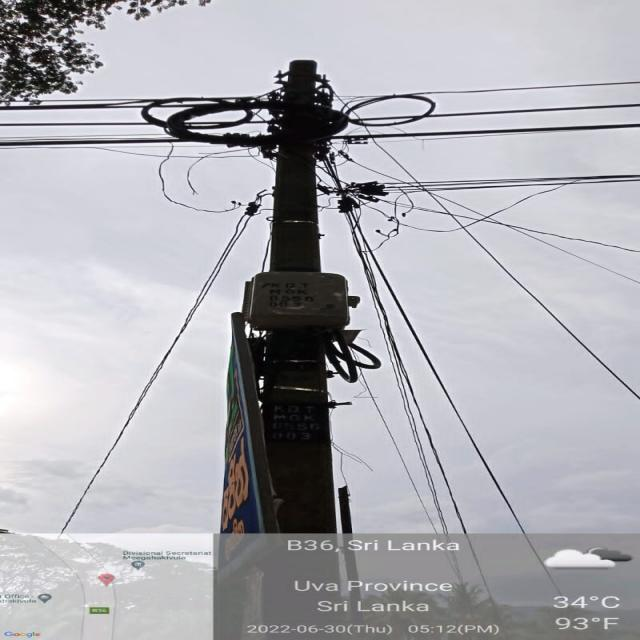light_pole: (222, 55, 356, 535)
